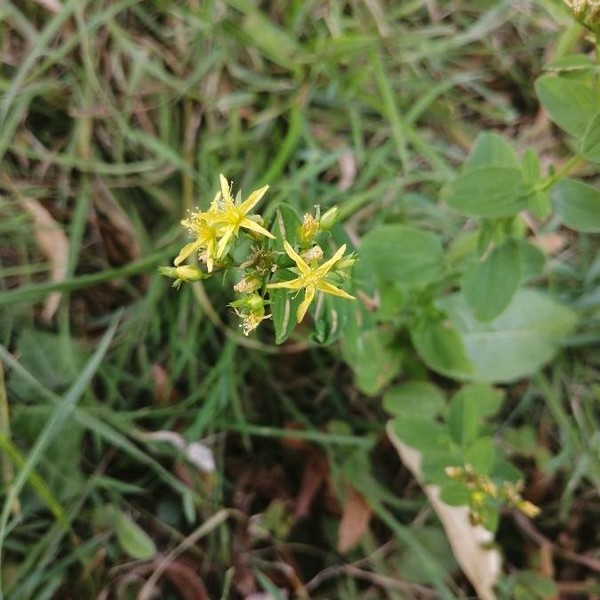obstacle: (191, 196, 530, 534), (396, 36, 591, 339)
